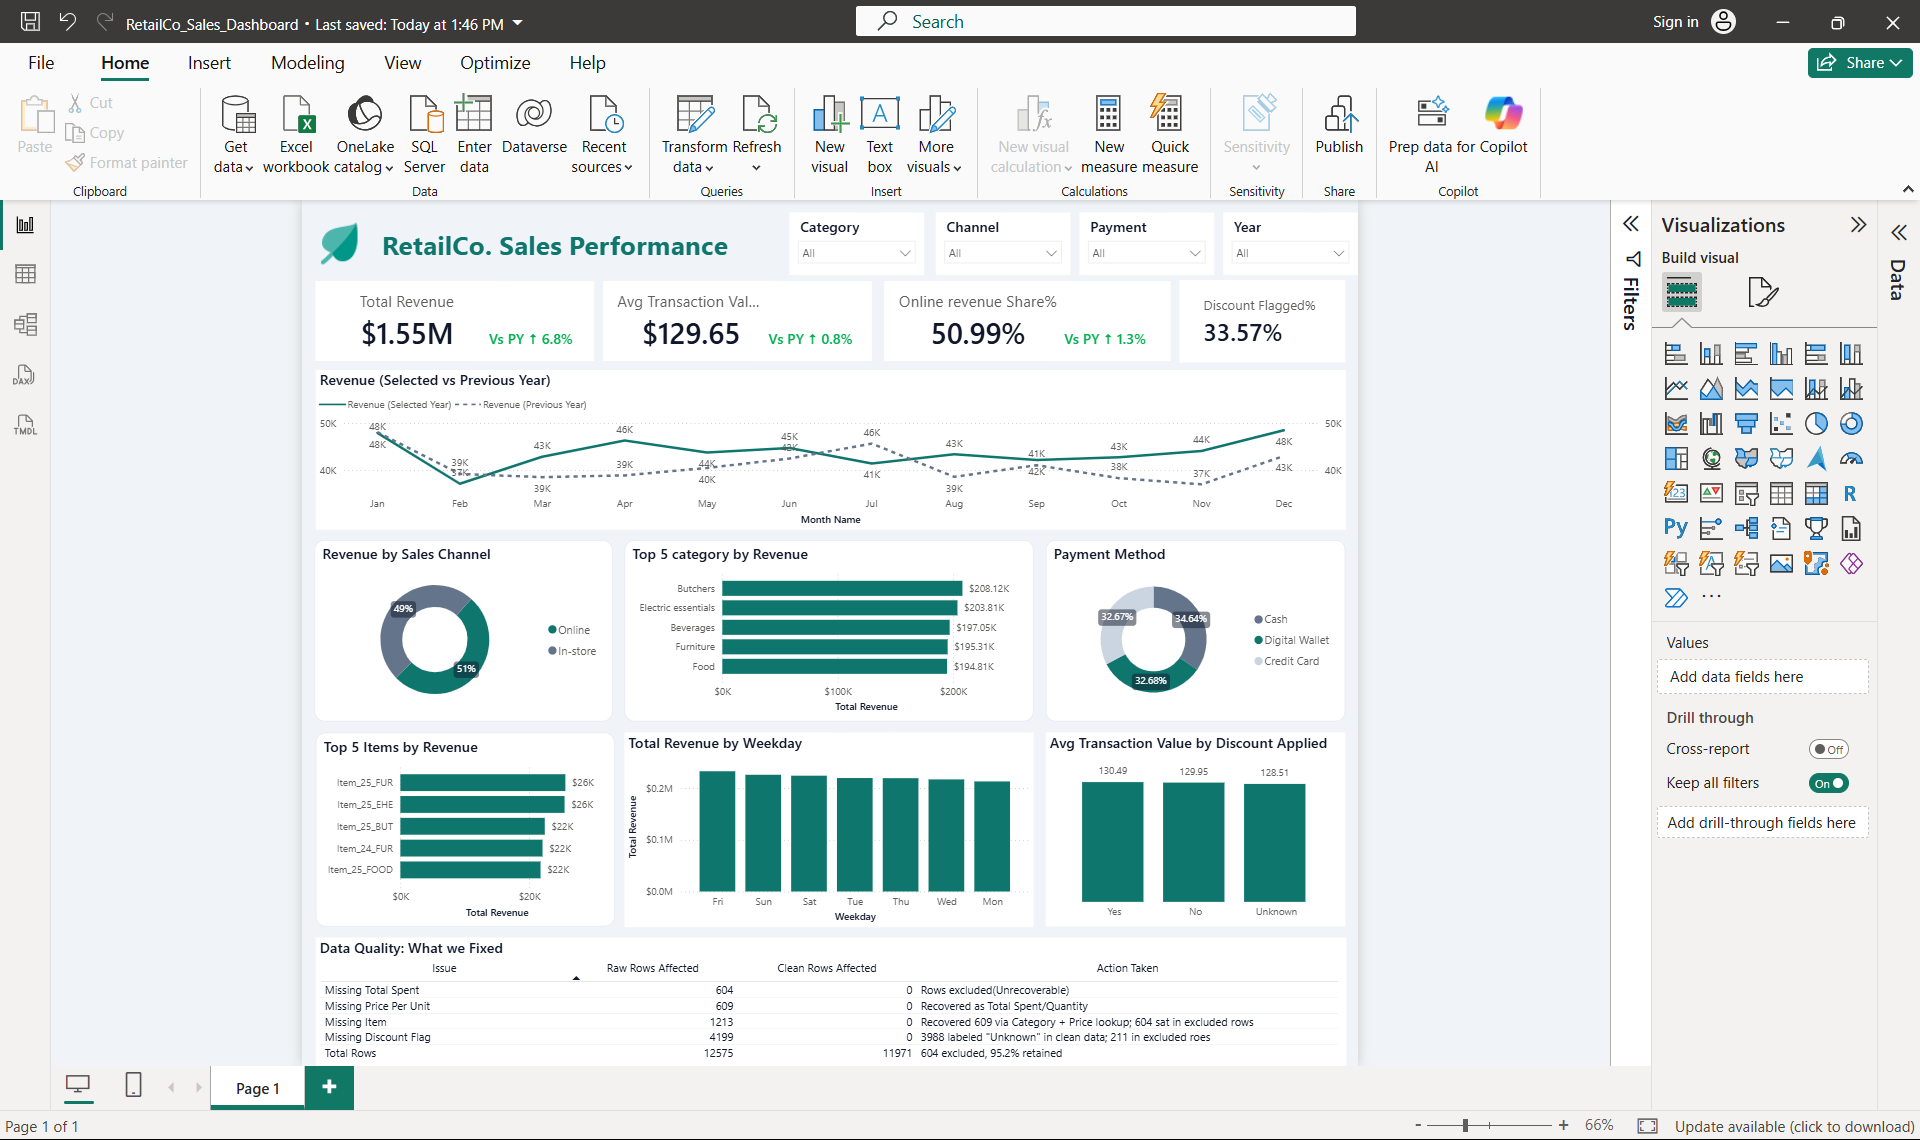

The page's visual inventory and layout, read from the dashboard file:
{"tool":"powerbi","page":{"name":"Page 1","canvas":[1280,1050],"ordinal":0},"visuals":[{"type":"slicer","fields":{"Values":["Calendar_Table.Year"]},"box":[1116.6,14.5,162.8,75.6],"z":0},{"type":"shape","box":[17.2,98.2,337.8,96.8],"z":0,"group":"g2"},{"type":"shape","box":[366.2,98.2,325.8,96.8],"z":0,"group":"g3"},{"type":"shape","box":[706.2,98.2,346.8,96.8],"z":0,"group":"g4"},{"type":"slicer","fields":{"Values":["Sales.Category"]},"box":[591.8,14.5,162.8,75.6],"z":1000},{"type":"cardVisual","fields":{"Data":["Sales.Discount Usage Rate"]},"box":[1064,97,201,100],"z":1000,"group":"g1"},{"type":"cardVisual","fields":{"Data":["Sales.Total Revenue"]},"box":[17,98,221.8,96.3],"z":1000,"group":"g2"},{"type":"cardVisual","fields":{"Data":["Sales.Avg Transaction Value"]},"box":[366,98,213.9,96.3],"z":1000,"group":"g3"},{"type":"cardVisual","fields":{"Data":["Sales.Online revenue Share%"]},"box":[706,98,227.7,96.3],"z":1000,"group":"g4"},{"type":"slicer","fields":{"Values":["Sales.Location"]},"box":[769.1,14.5,162.8,75.6],"z":2000},{"type":"cardVisual","fields":{"Data":["Sales.Growth Rate"]},"box":[210.8,139.9,134.9,54.8],"z":2000,"group":"g2"},{"type":"cardVisual","fields":{"Data":["Sales.ATV rate"]},"box":[552.9,139.9,130.1,54.8],"z":2000,"group":"g3"},{"type":"cardVisual","fields":{"Data":["Sales.Share rate"]},"box":[904.9,139.9,138.5,54.8],"z":2000,"group":"g4"},{"type":"slicer","fields":{"Values":["Sales.Payment Method"]},"box":[942.2,14.5,162.8,75.6],"z":3000},{"type":"lineChart","title":"Revenue (Selected vs Previous Year)","fields":{"Y":["Sales.Revenue (Selected Year)"],"Category":["Calendar_Table.Month Name"],"Y2":["Sales.Revenue (Previous Year)"]},"box":[16,206.5,1249,193.4],"z":4000},{"type":"clusteredBarChart","title":"Top 5 category by Revenue","fields":{"Y":["Sales.Total Revenue"],"Category":["Sales.Category"]},"box":[391.3,411.5,495.7,219.8],"z":5000},{"type":"donutChart","title":"Revenue by Sales Channel","fields":{"Category":["Sales.Location"],"Y":["Sales.Total Revenue"]},"box":[15.6,411.5,361.7,219.8],"z":6000},{"type":"donutChart","title":"Payment Method","fields":{"Category":["Sales.Payment Method"],"Y":["Sales.Total Revenue"]},"box":[901,411.5,363.2,219.8],"z":7000},{"type":"clusteredColumnChart","title":"Avg Transaction Value by Discount Applied","fields":{"Category":["Sales.Discount Applied"],"Y":["Sales.Average Transaction Value"]},"box":[901.5,645.6,363.5,235.5],"z":8000},{"type":"clusteredBarChart","title":"Top 5 Items by Revenue","fields":{"Category":["Sales.Item"],"Y":["Sales.Total Revenue"]},"box":[16,645.6,362,235.5],"z":9000},{"type":"tableEx","title":"Data Quality: What we Fixed","fields":{"Values":["DQ_Audit.Issue","DQ_Audit.Raw Rows Affected","DQ_Audit.Clean Rows Affected","DQ_Audit.Action Taken"]},"box":[16.4,894.4,1249.2,186.7],"z":10000},{"type":"group","id":"g1","title":"Group 1","box":[1064,97,201,100],"z":11000},{"type":"textbox","box":[77.1,27.6,495.8,62.5],"z":13000},{"type":"image","box":[16,14.5,61.1,75.6],"z":14000},{"type":"clusteredColumnChart","fields":{"Category":["Calendar_Table.Weekday"],"Y":["Sales.Total Revenue"]},"box":[391,646,496,236],"z":15000},{"type":"group","id":"g2","title":"Group 1","box":[17,98,338,97],"z":16000},{"type":"group","id":"g3","title":"Group 1","box":[366,98,326,97],"z":16001},{"type":"group","id":"g4","title":"Group 1","box":[706,98,347,97],"z":16002}]}

Visuals, with their boxes in screenshot pixels (x1, y1, x2, y2):
slicer - Calendar_Table.Year: {"left": 1148, "top": 0, "right": 1316, "bottom": 33}
shape: {"left": 13, "top": 41, "right": 362, "bottom": 141}
shape: {"left": 373, "top": 41, "right": 710, "bottom": 141}
shape: {"left": 724, "top": 41, "right": 1082, "bottom": 141}
slicer - Sales.Category: {"left": 606, "top": 0, "right": 774, "bottom": 33}
cardVisual - Sales.Discount Usage Rate: {"left": 1094, "top": 40, "right": 1301, "bottom": 143}
cardVisual - Sales.Total Revenue: {"left": 13, "top": 41, "right": 242, "bottom": 141}
cardVisual - Sales.Avg Transaction Value: {"left": 373, "top": 41, "right": 594, "bottom": 141}
cardVisual - Sales.Online revenue Share%: {"left": 724, "top": 41, "right": 959, "bottom": 141}
slicer - Sales.Location: {"left": 789, "top": 0, "right": 957, "bottom": 33}
cardVisual - Sales.Growth Rate: {"left": 213, "top": 84, "right": 352, "bottom": 141}
cardVisual - Sales.ATV rate: {"left": 566, "top": 84, "right": 700, "bottom": 141}
cardVisual - Sales.Share rate: {"left": 930, "top": 84, "right": 1073, "bottom": 141}
slicer - Sales.Payment Method: {"left": 968, "top": 0, "right": 1136, "bottom": 33}
"Revenue (Selected vs Previous Year)" lineChart: {"left": 12, "top": 153, "right": 1301, "bottom": 353}
"Top 5 category by Revenue" clusteredBarChart: {"left": 399, "top": 365, "right": 911, "bottom": 592}
"Revenue by Sales Channel" donutChart: {"left": 11, "top": 365, "right": 385, "bottom": 592}
"Payment Method" donutChart: {"left": 926, "top": 365, "right": 1301, "bottom": 592}
"Avg Transaction Value by Discount Applied" clusteredColumnChart: {"left": 926, "top": 607, "right": 1301, "bottom": 850}
"Top 5 Items by Revenue" clusteredBarChart: {"left": 12, "top": 607, "right": 385, "bottom": 850}
"Data Quality: What we Fixed" tableEx: {"left": 12, "top": 864, "right": 1302, "bottom": 1057}
"Group 1" group: {"left": 1094, "top": 40, "right": 1301, "bottom": 143}
textbox: {"left": 75, "top": 0, "right": 587, "bottom": 33}
image: {"left": 12, "top": 0, "right": 75, "bottom": 33}
clusteredColumnChart - Calendar_Table.Weekday x Sales.Total Revenue: {"left": 399, "top": 607, "right": 911, "bottom": 851}
"Group 1" group: {"left": 13, "top": 41, "right": 362, "bottom": 141}
"Group 1" group: {"left": 373, "top": 41, "right": 710, "bottom": 141}
"Group 1" group: {"left": 724, "top": 41, "right": 1082, "bottom": 141}
